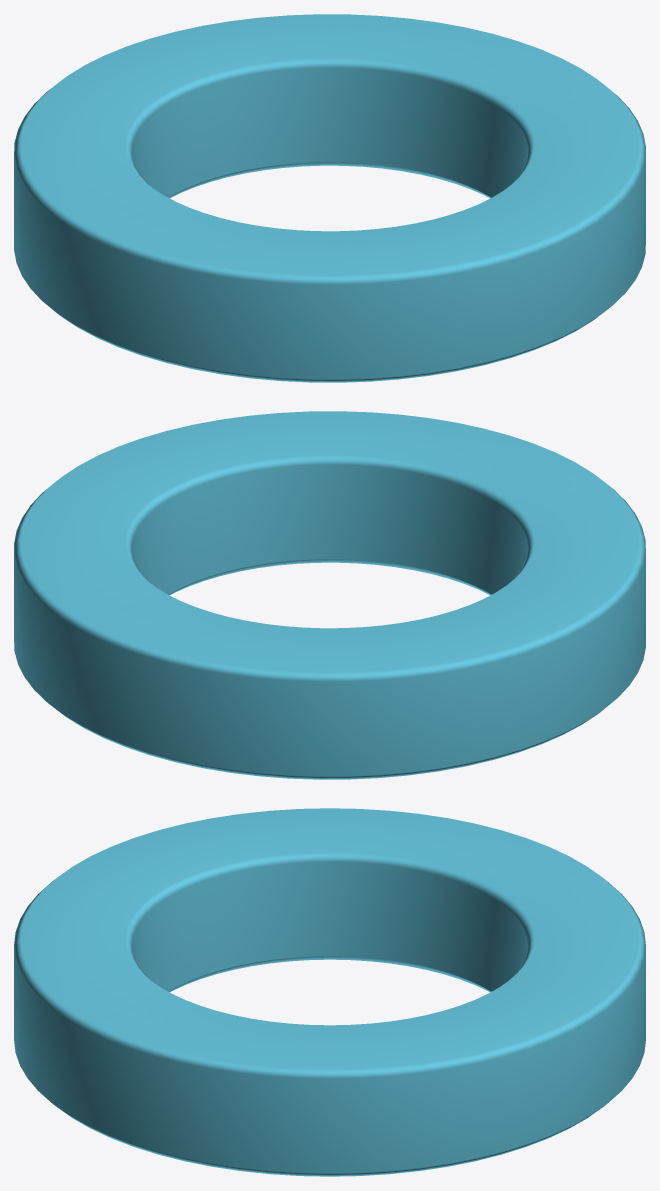
3 renders of one model, top to bottom at view 1: azimuth 30°, elevation 25°; view 2: azimuth 150°, elevation 25°; view 3: azimuth 270°, elevation 25°, orthographic.
Parts seen in each view (by area): view 1: seal_body; view 2: seal_body; view 3: seal_body.
Boxes of the visible parts, x1,y1,x2,y2 form: seal_body: [14, 14, 645, 382]; seal_body: [14, 411, 645, 779]; seal_body: [14, 808, 645, 1176].
Bounding box in the file's own units: 0.0508 × 0.00952 × 0.0508.
